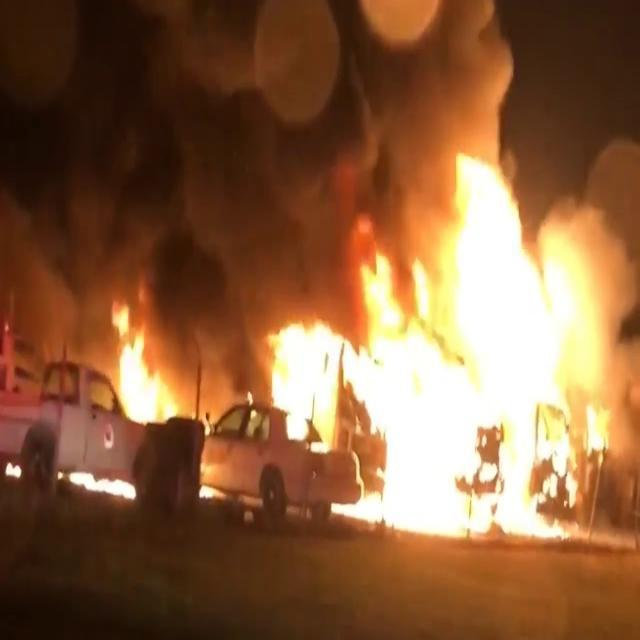Fire: (256, 136, 619, 544), (100, 302, 180, 431)
Smoke: (0, 0, 421, 353)
